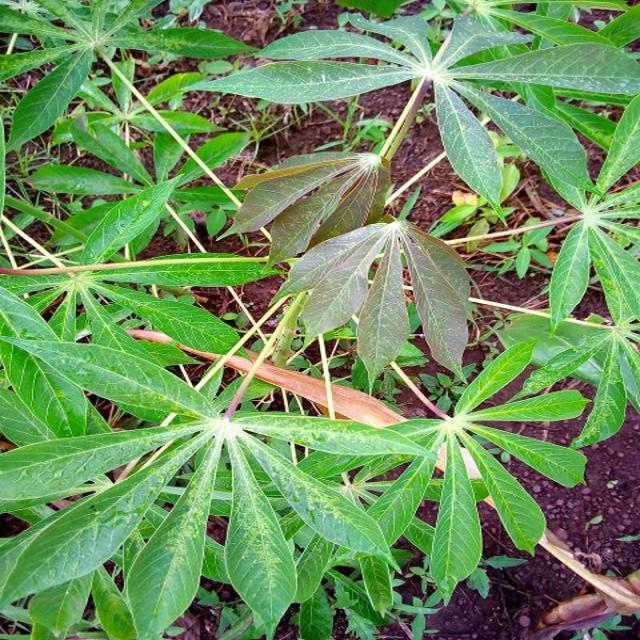cassava leaf: (2, 2, 638, 637), (281, 213, 473, 386)
